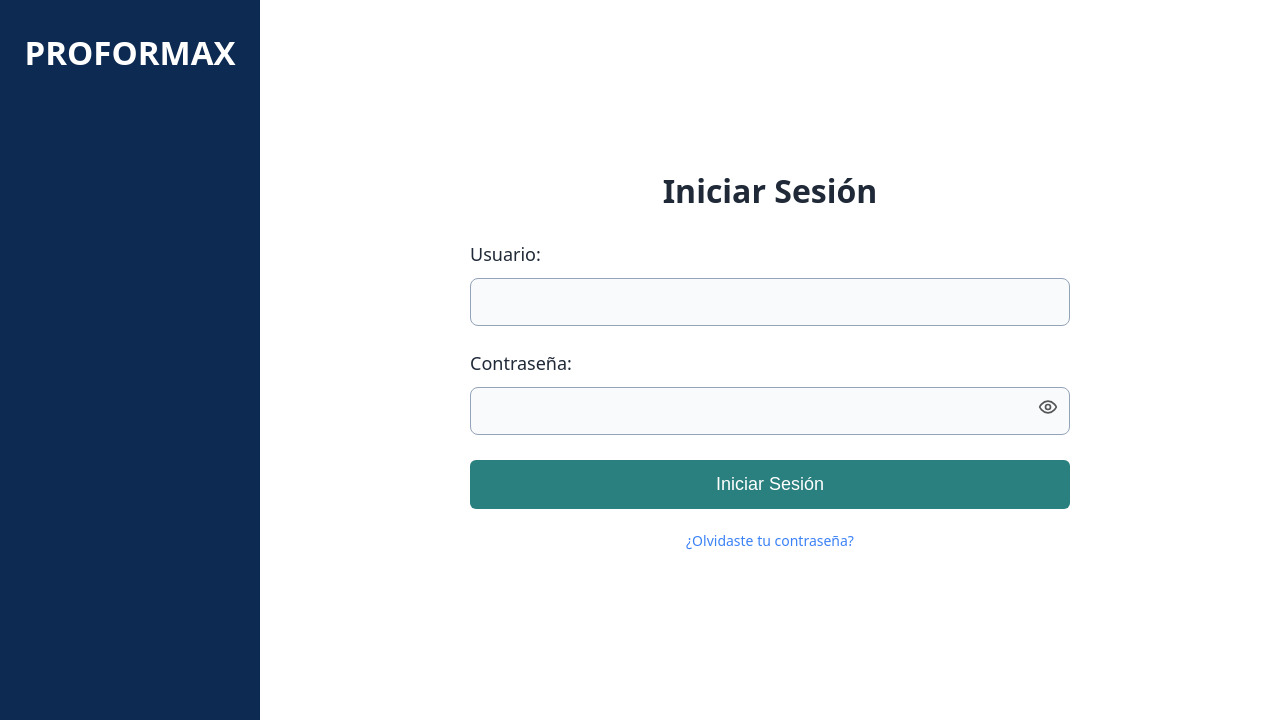
Test case: Password Recovery Flow › Forgot Password UI › should navigate to forgot password page from login
Click the link "¿Olvidaste tu contraseña?".
click(770, 541)  # box [686,531,854,550]
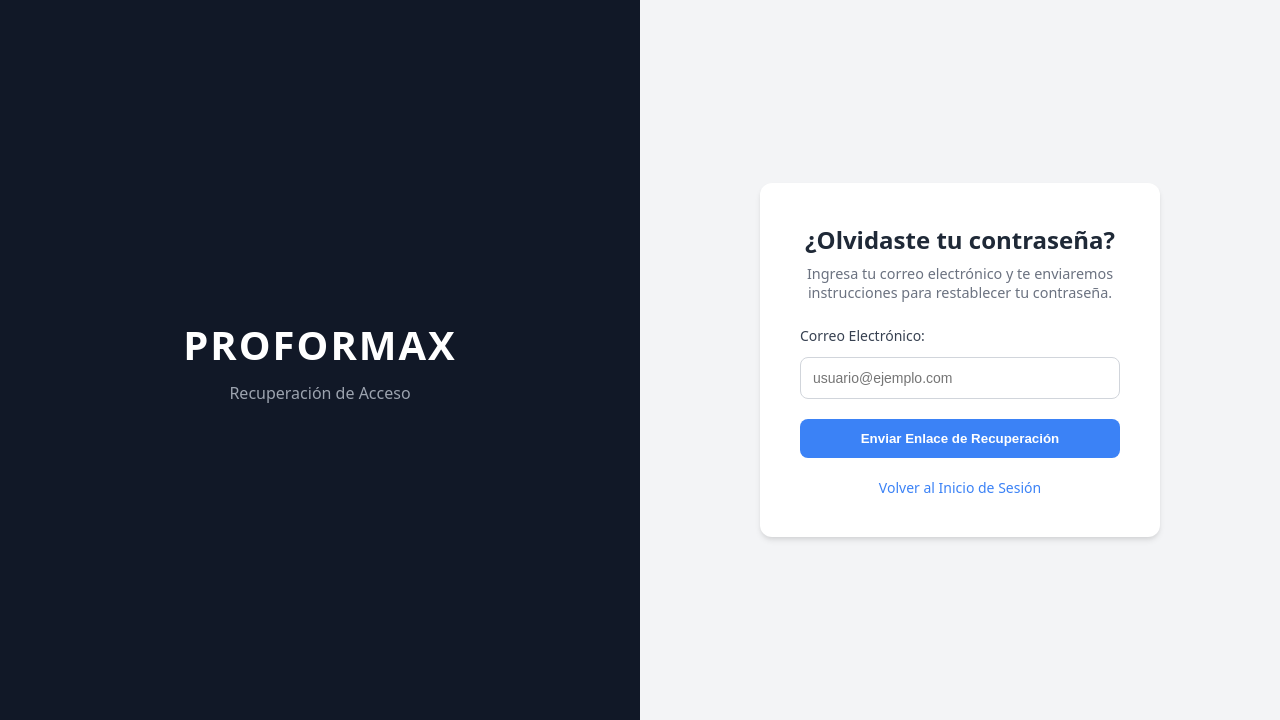
Now the heading "¿Olvidaste tu contraseña?" is shown, box [800,223,1120,256]
